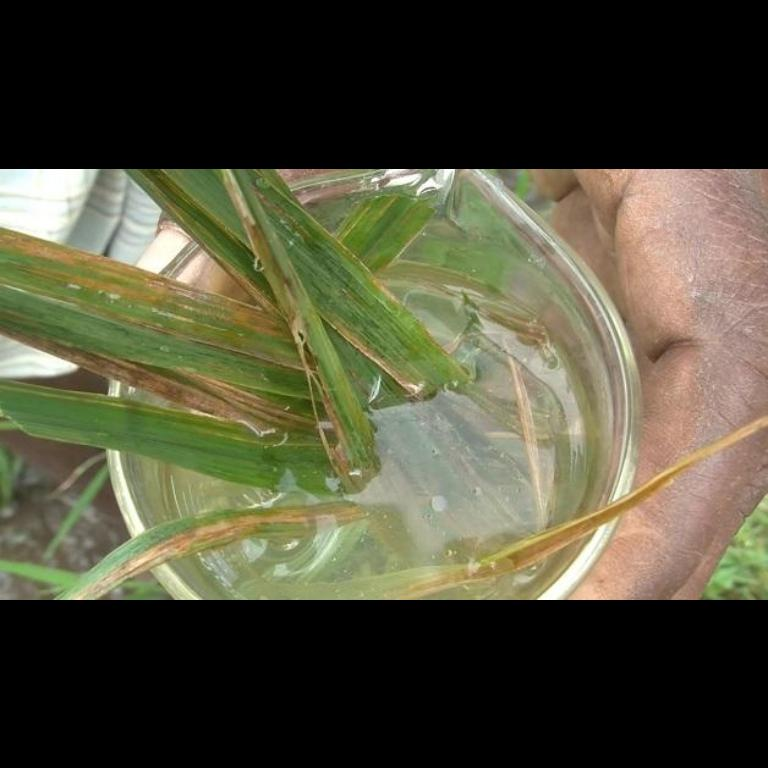blight: (41, 252, 135, 312)
